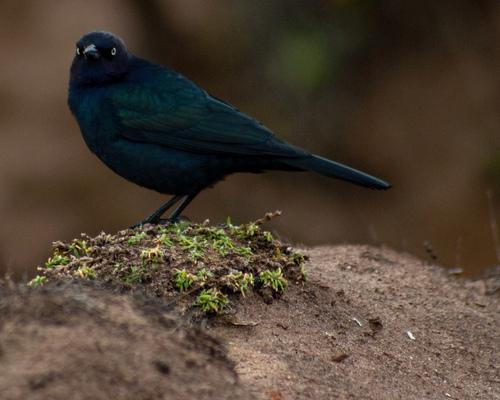009.Brewer_Blackbird: (64, 27, 393, 234)
